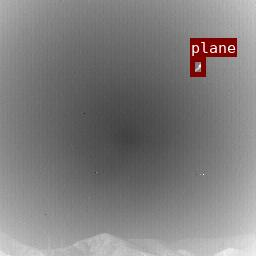plane: (190, 57, 205, 76)
